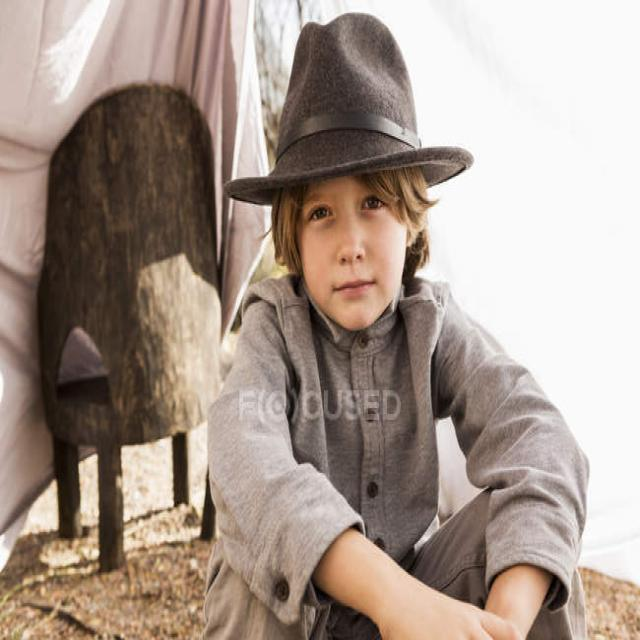hat: (226, 9, 474, 334)
